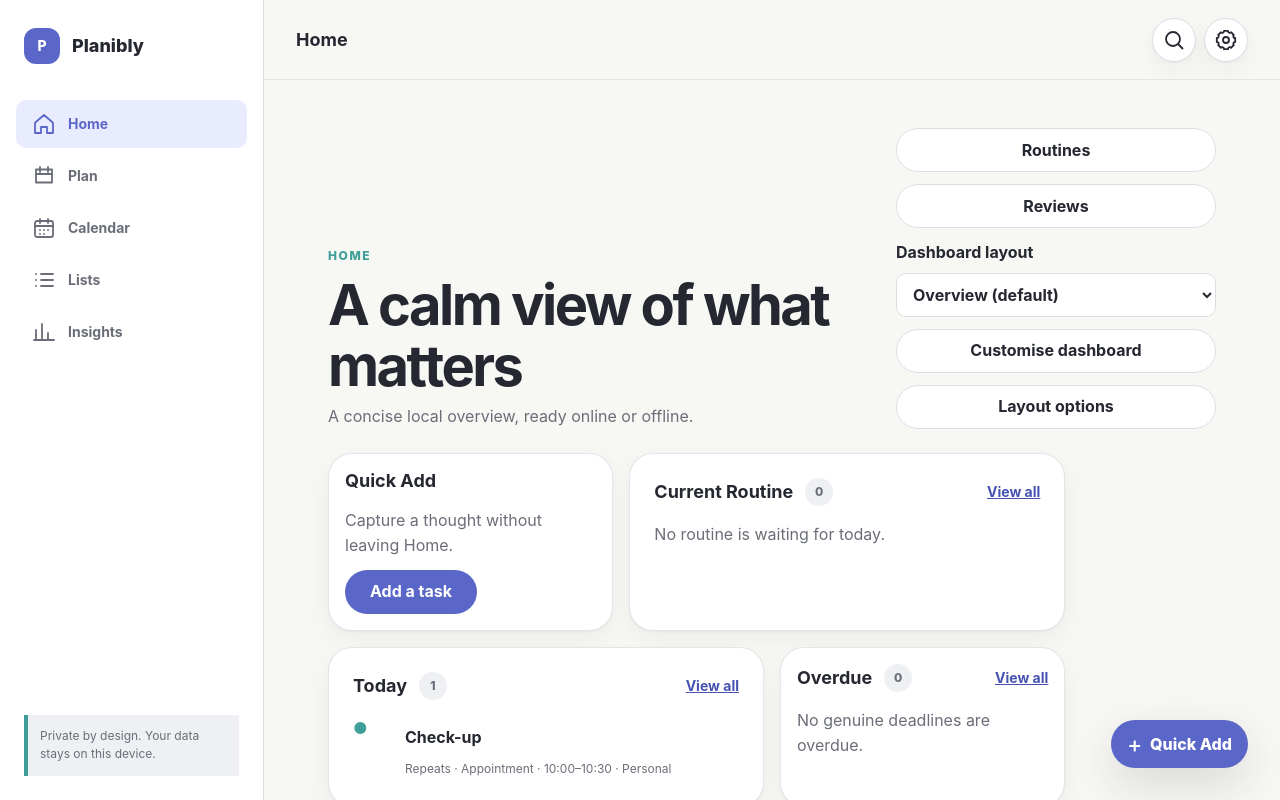
it: Phase 2B Home dashboard › includes visible appointments in the existing Today card and opens the event editor
expect the text "Repeats · Appointment · 10:00–10:30 · Personal" is shown: met, box [405,761,672,776]
Click the button "Check-up" at (443, 737), box [405,716,739,760]
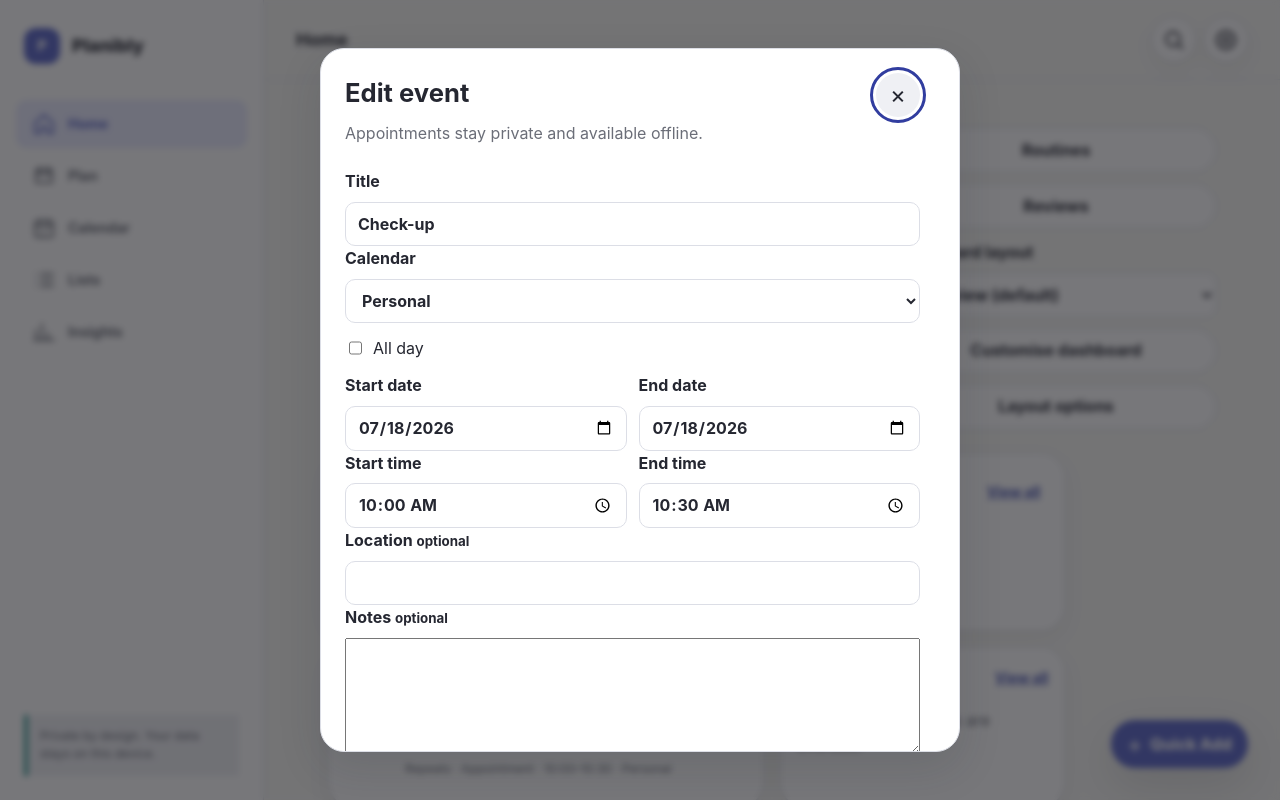
expect the dialog "Edit event" is shown: met, box [320,48,960,752]
